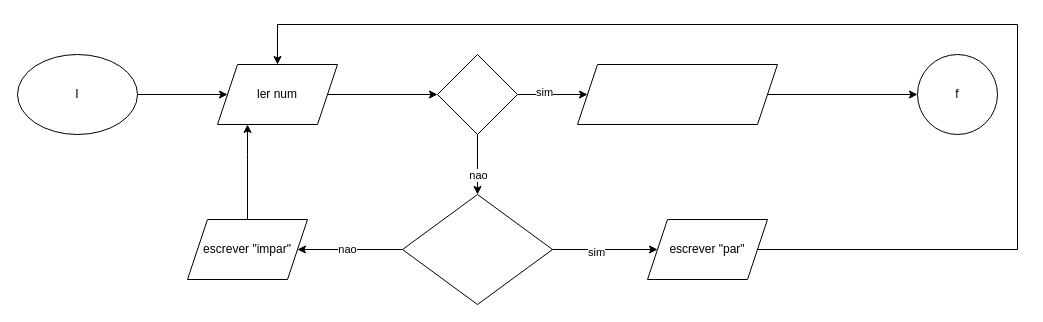
This 1043x322 diagram has some shape labels left out. Here are the shapes that lost their labels. From the top down, the centre of each, then its label:
point 477,94: num = 0
point 677,94: escrever "digitou 0 - vai sair do programa
point 477,249: num mod 2 = = 0
